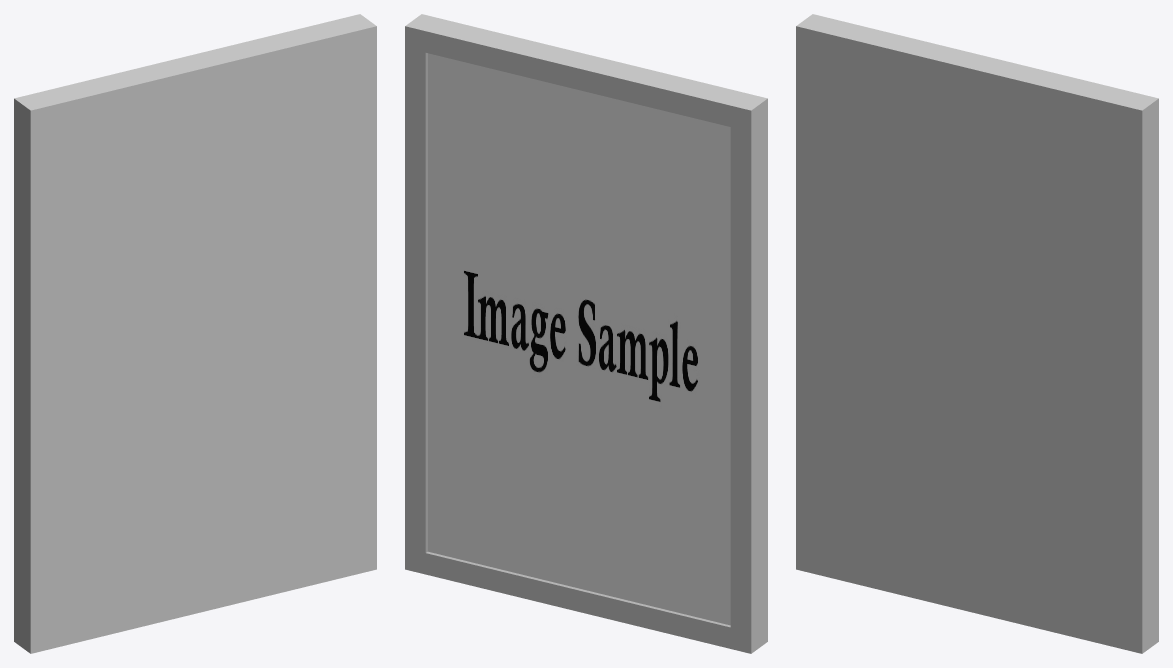
The model's file is frame_var2.fbx.
The picture shows the model from 3 angles, left to right: view 1: azimuth 30°, elevation 25°; view 2: azimuth 150°, elevation 25°; view 3: azimuth 330°, elevation 25°; orthographic projection.
Visible parts, largest first — view 1: Cube.056; view 2: Plane.004, Cube.056; view 3: Cube.056.
Boxes of the visible parts, x1,y1,x2,y2 form: Cube.056: (14, 14, 376, 653); Plane.004: (428, 53, 730, 625); Cube.056: (405, 14, 767, 653); Cube.056: (796, 14, 1158, 653).
Size of the model in its own units: 71.58 by 107 by 5.97.
